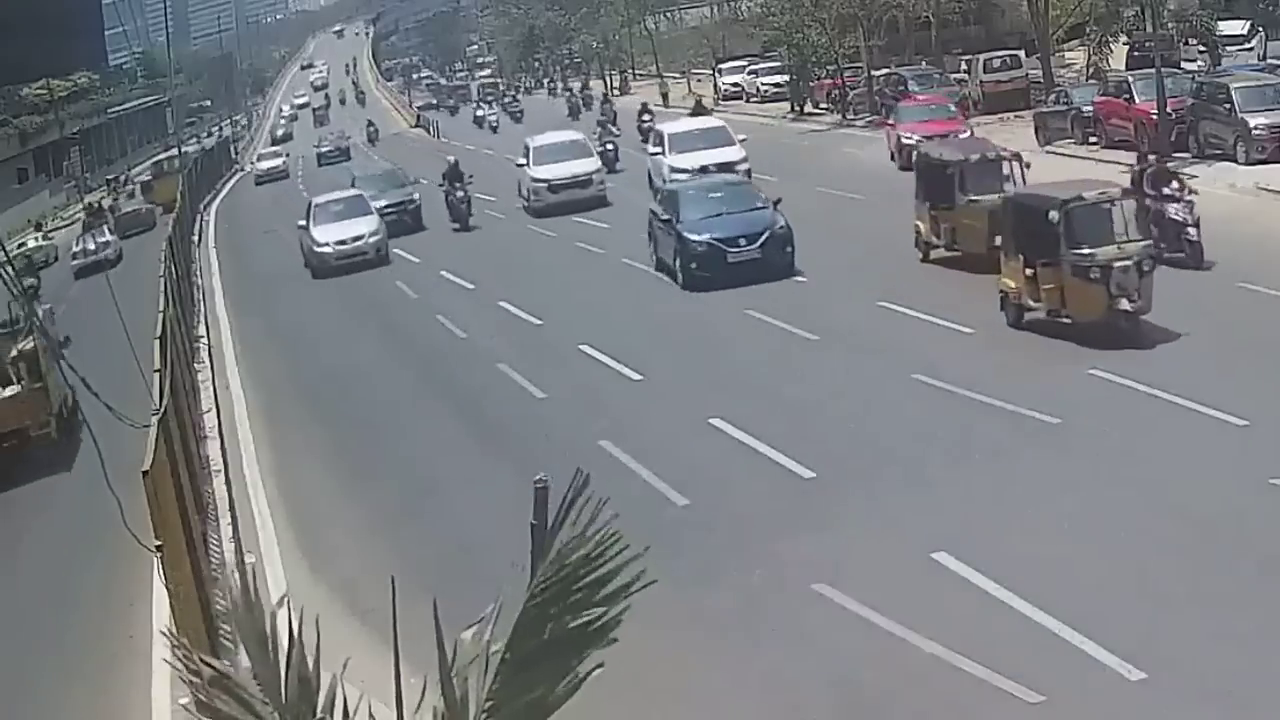Car: (642, 173, 797, 287), (1185, 62, 1280, 177), (638, 119, 757, 202), (879, 90, 981, 181), (1098, 58, 1191, 155), (288, 192, 394, 274), (519, 124, 608, 213), (348, 158, 420, 249), (68, 217, 123, 285), (242, 139, 290, 185), (311, 126, 354, 170)
License_Plate: (723, 242, 759, 264)
MotorCycle: (1130, 185, 1221, 287), (437, 172, 481, 238), (591, 132, 625, 177), (485, 109, 504, 141)
